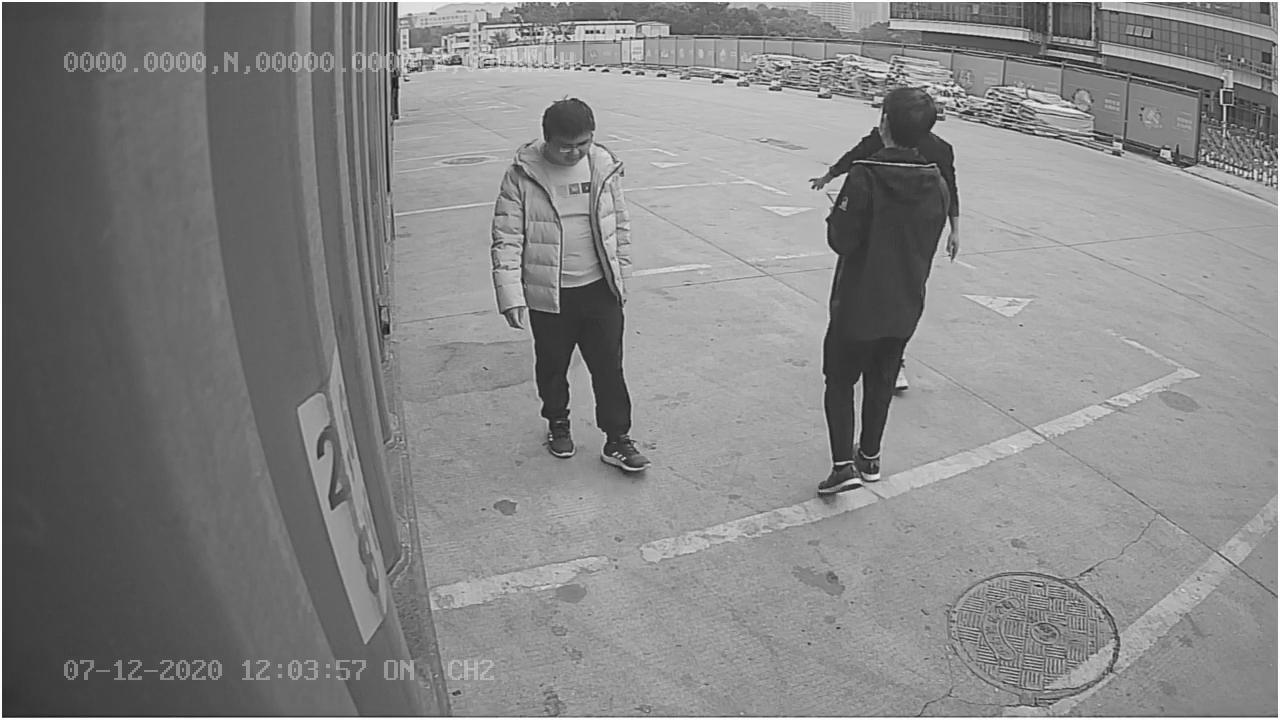person: (489, 90, 653, 476)
